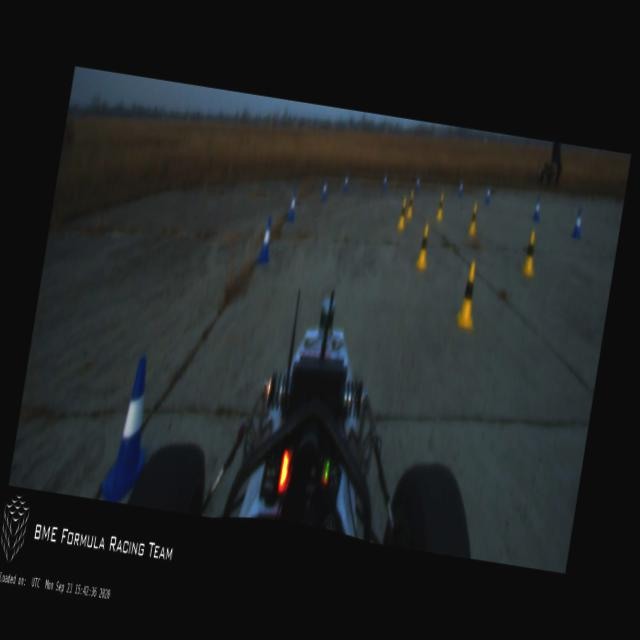blue_cone: (99, 353, 163, 505), (256, 212, 276, 266), (570, 206, 586, 241), (286, 190, 298, 223), (531, 196, 543, 223), (320, 178, 330, 202), (456, 178, 466, 200), (484, 183, 493, 207), (413, 173, 422, 196), (342, 173, 350, 195), (381, 174, 389, 193)
yellow_cone: (455, 259, 483, 332), (415, 218, 434, 270), (520, 232, 541, 278), (468, 204, 480, 236), (398, 199, 409, 231), (406, 190, 416, 220), (436, 192, 446, 220)
